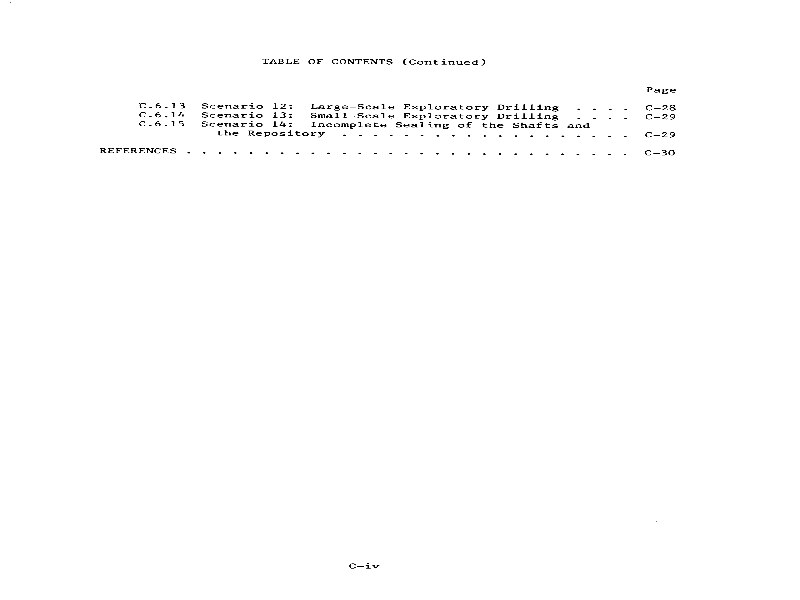table: (91, 76, 695, 183)
